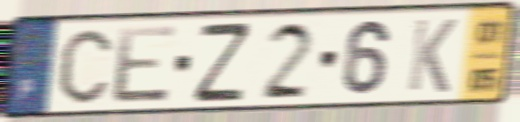2: (256, 19, 318, 100)
6: (342, 17, 394, 98)
C: (56, 26, 114, 107)
E: (111, 22, 180, 106)
K: (404, 16, 460, 96)
Z: (191, 19, 253, 105)
